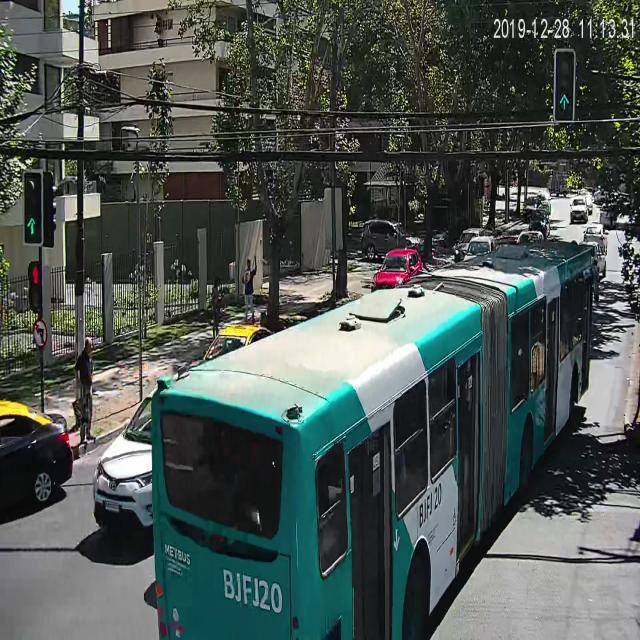AB: (154, 229, 600, 640)
